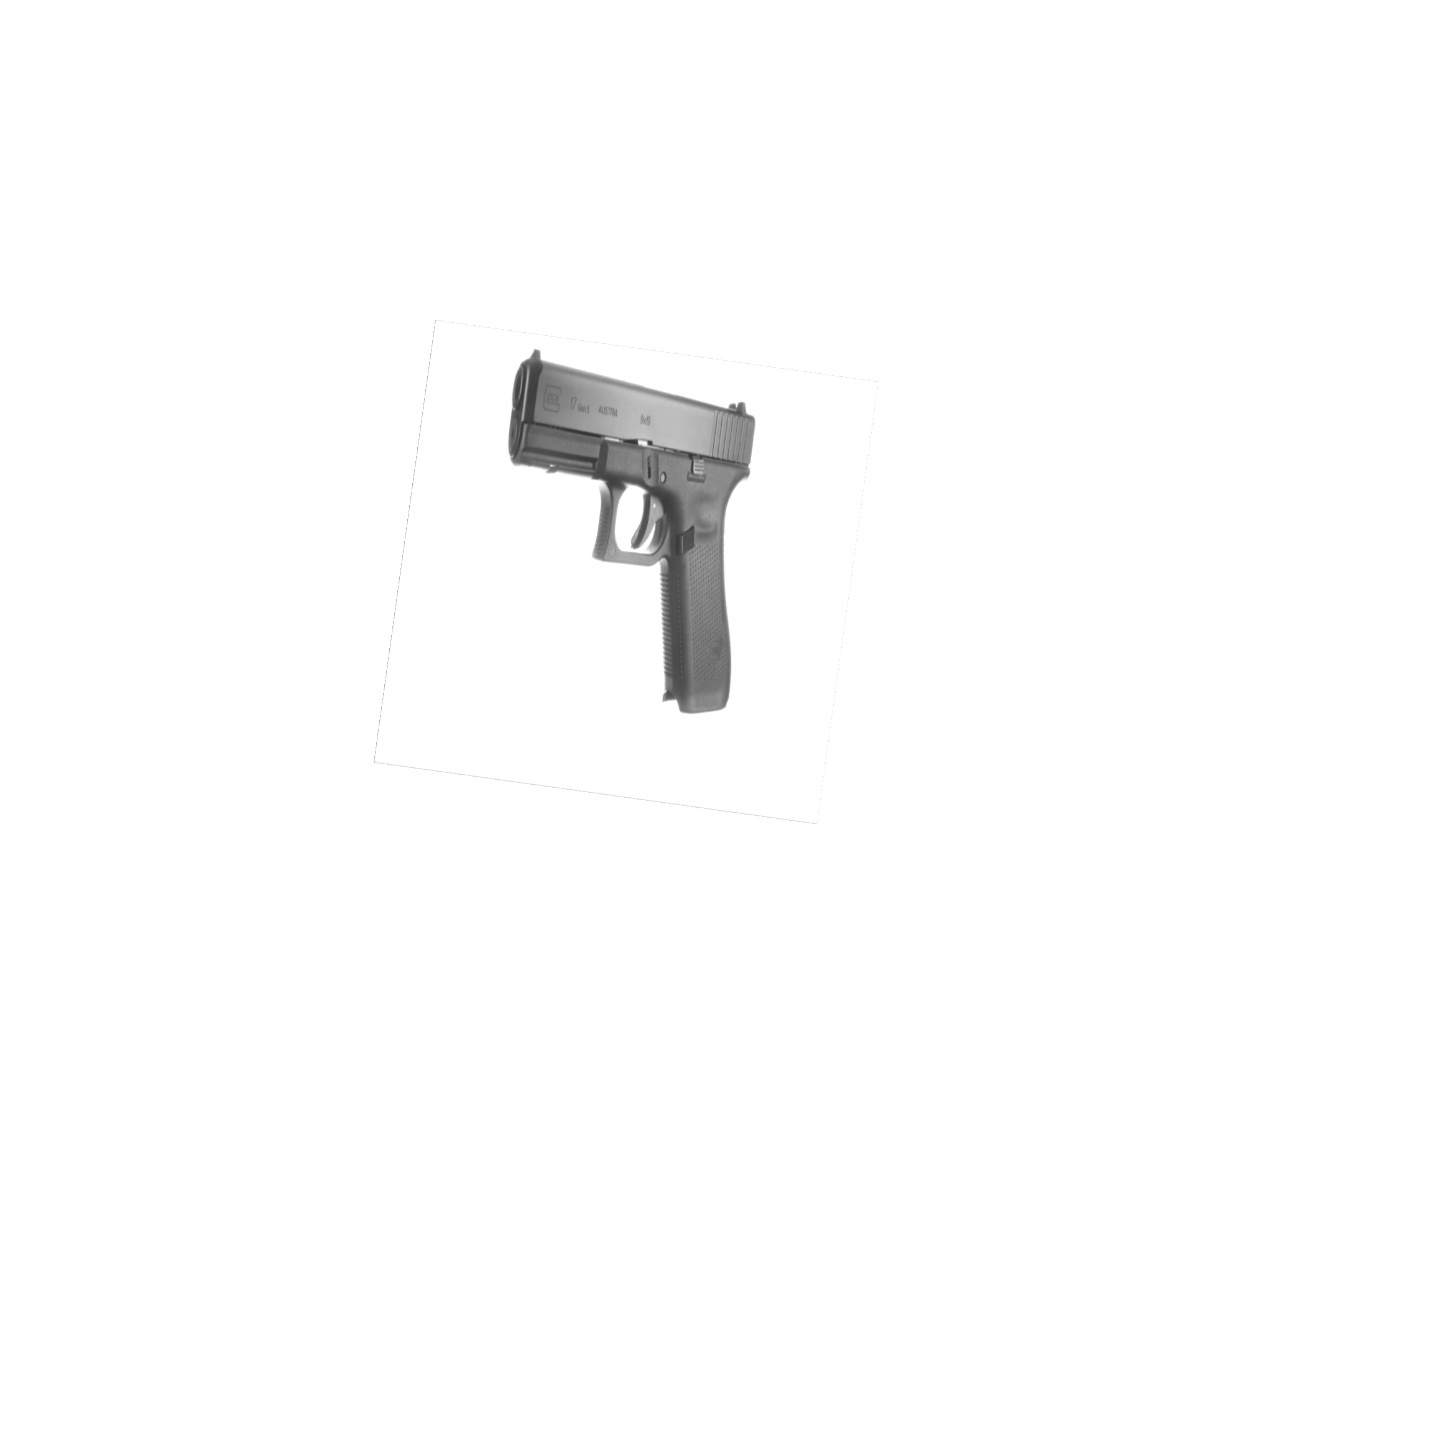gun: (499, 340, 762, 716)
